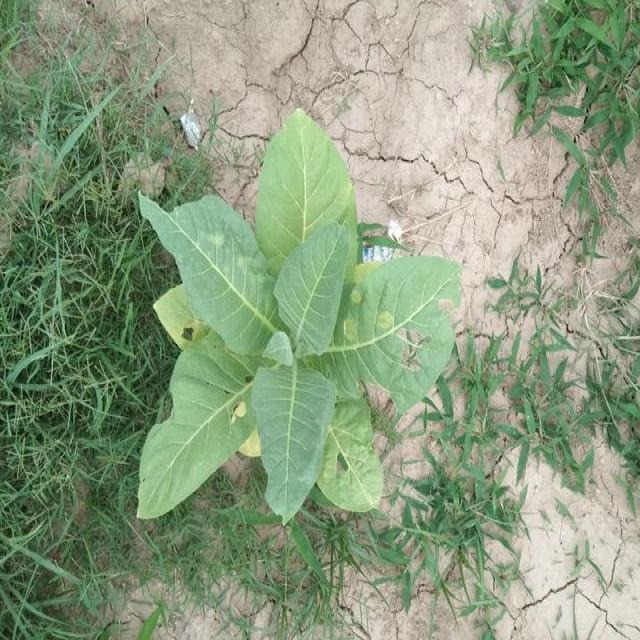crop: (122, 99, 468, 550)
